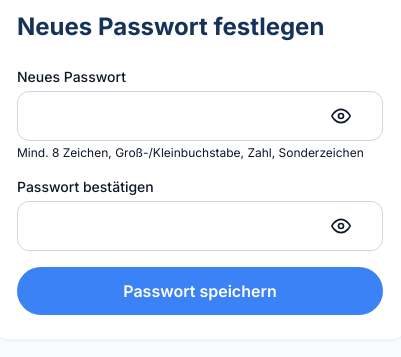
ResetPasswordForm › zeigt Validierungsfehler bei leerem Formular
Click the button "Passwort speichern" at (200, 291), box [17, 267, 383, 315]
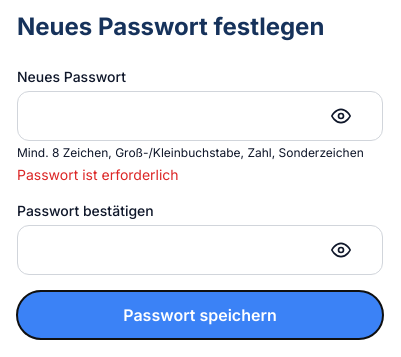
expect the text "Passwort ist erforderlich" is shown: met, box [17, 166, 179, 183]
